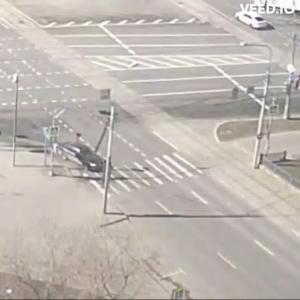car: (60, 142, 108, 173), (237, 13, 273, 32)
